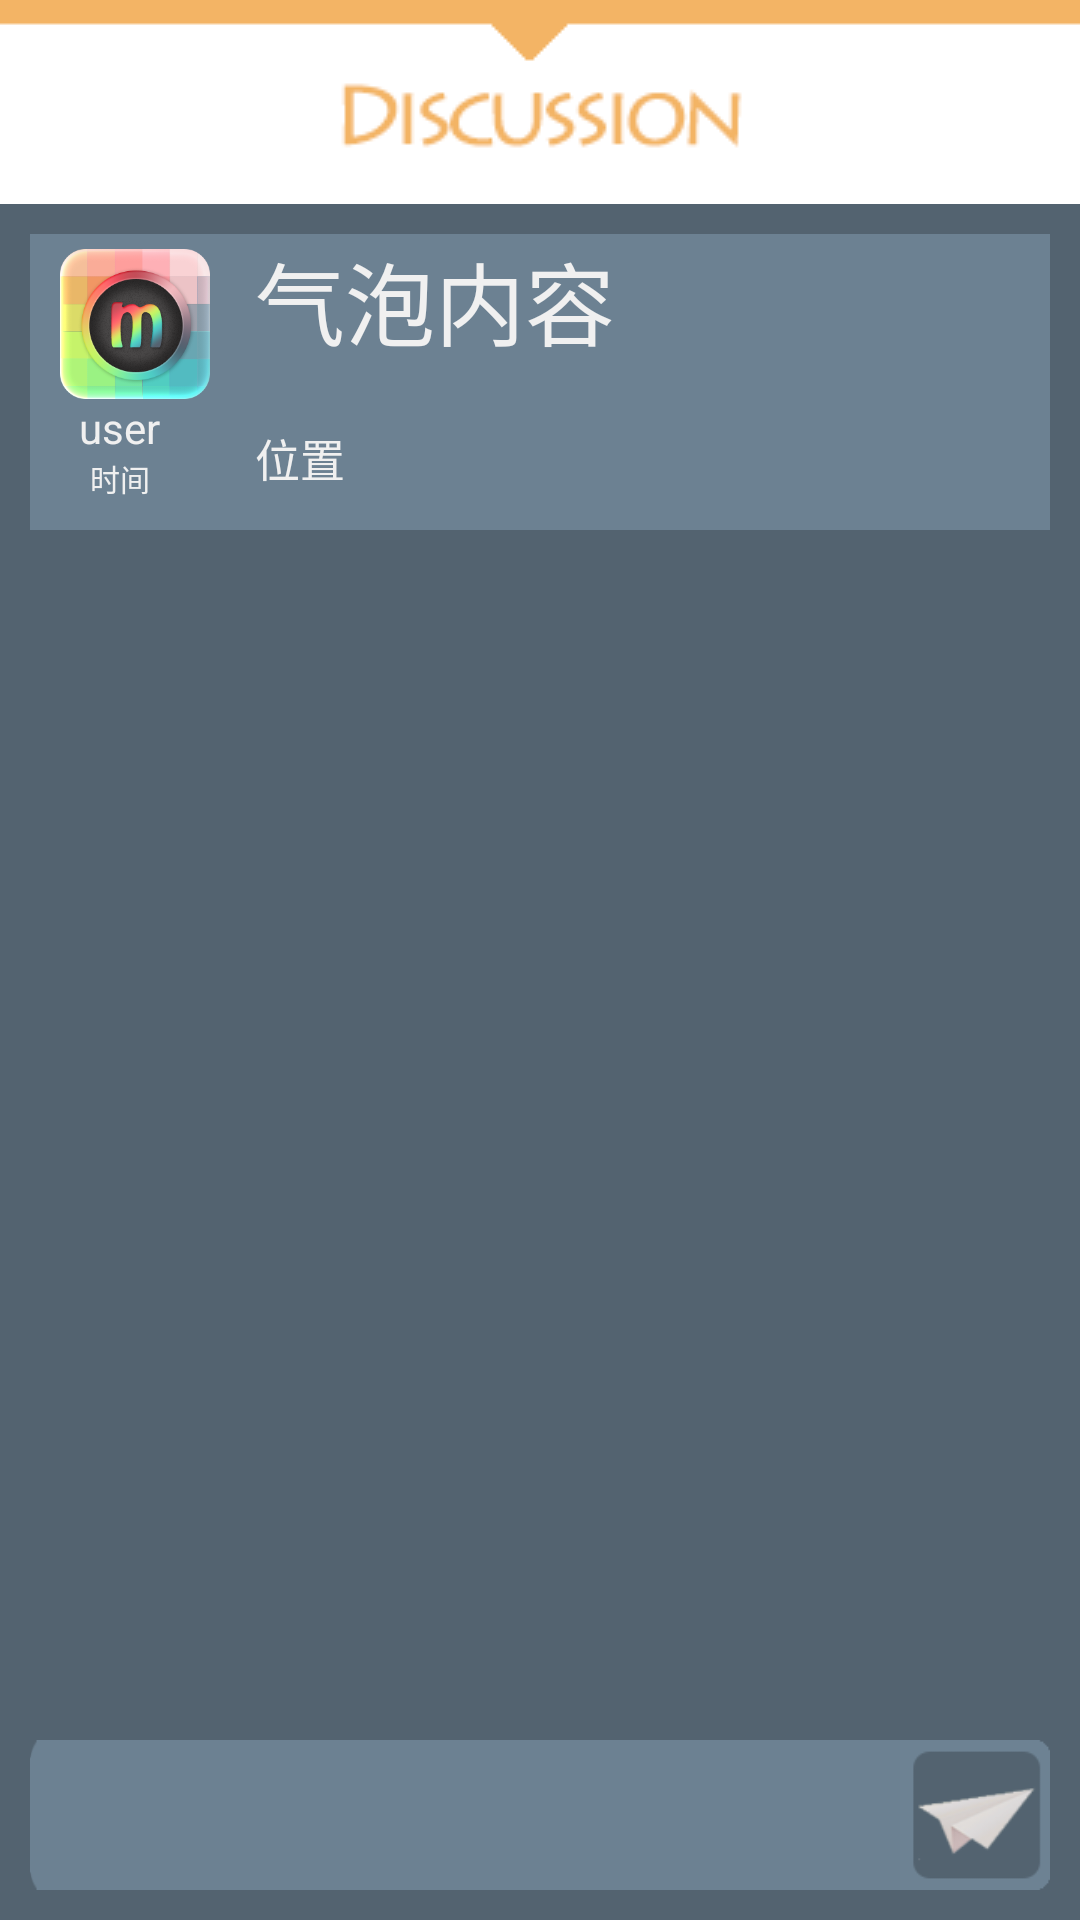

Where icons sit on this 1080w x 1920h app screen, as (x1=x1, y1=y1, x2=x2, y2=y2):
discussion send: (x1=900, y1=1740, x2=1050, y2=1890)
